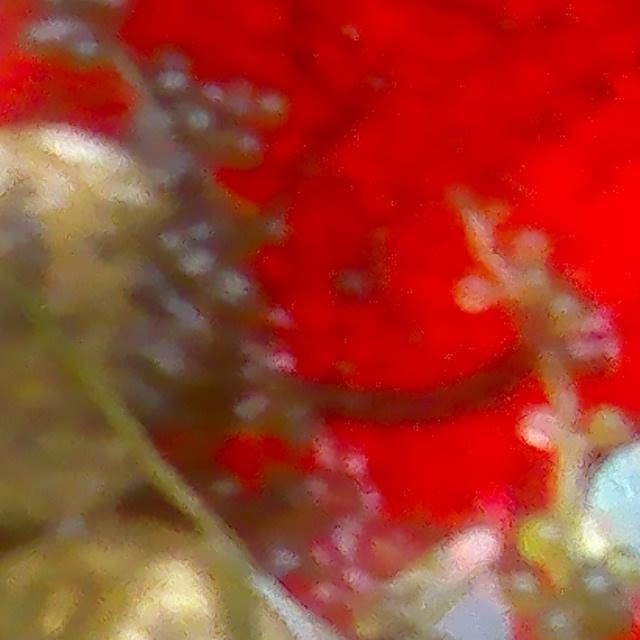SeaGrape: (207, 265, 257, 323), (175, 105, 226, 149), (145, 345, 188, 393), (153, 66, 200, 109), (183, 251, 222, 288)
